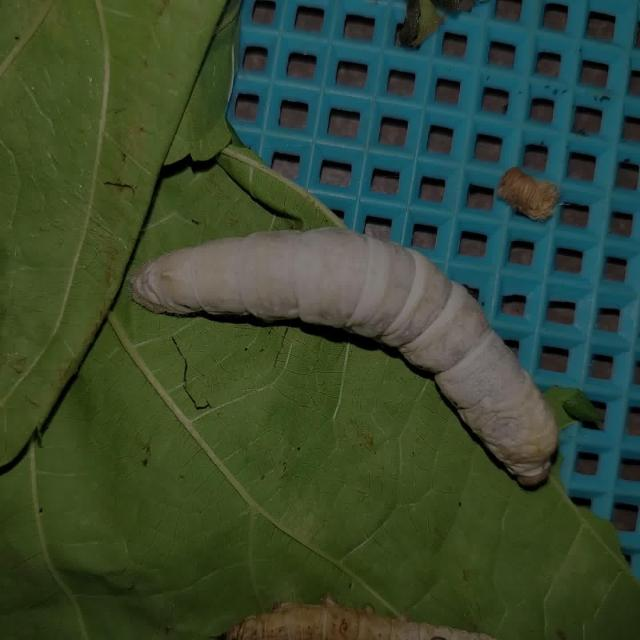Grasserie: (111, 203, 585, 512)
